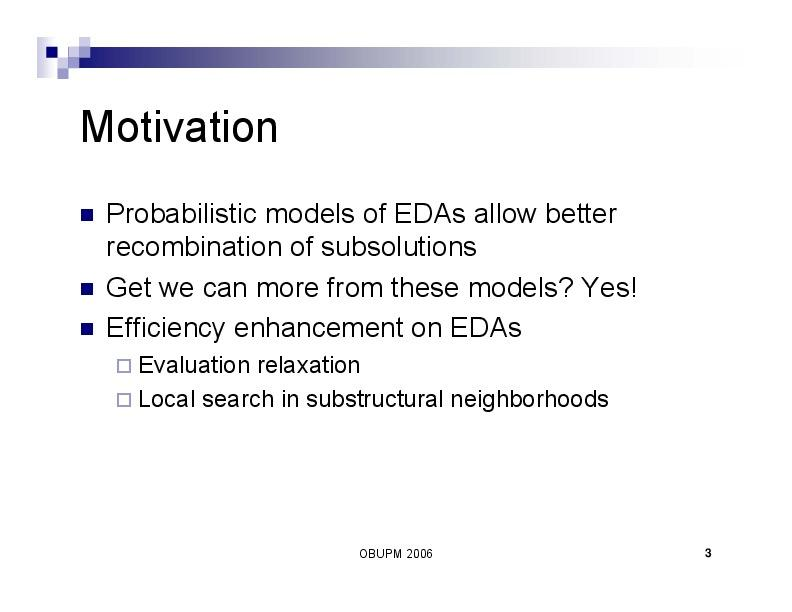paragraph: (101, 191, 683, 424)
title: (76, 99, 281, 153)
